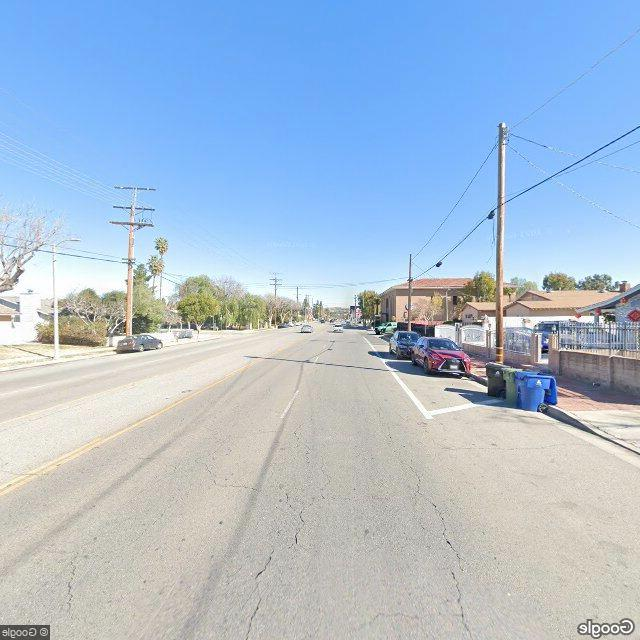crack: (195, 427, 344, 639)
pothole: (404, 450, 474, 632), (61, 550, 85, 619)
